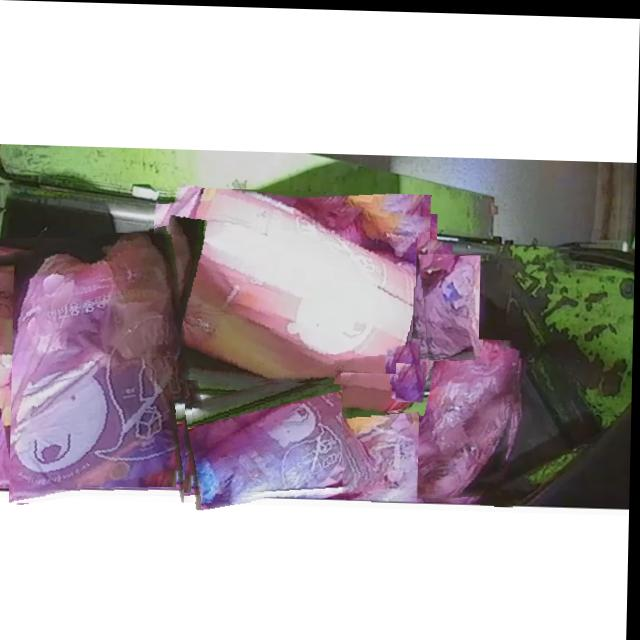other_trashbag: (149, 187, 429, 421), (11, 232, 201, 504), (187, 382, 374, 500), (421, 336, 522, 497), (344, 372, 429, 497), (426, 253, 482, 358), (398, 362, 426, 400)
